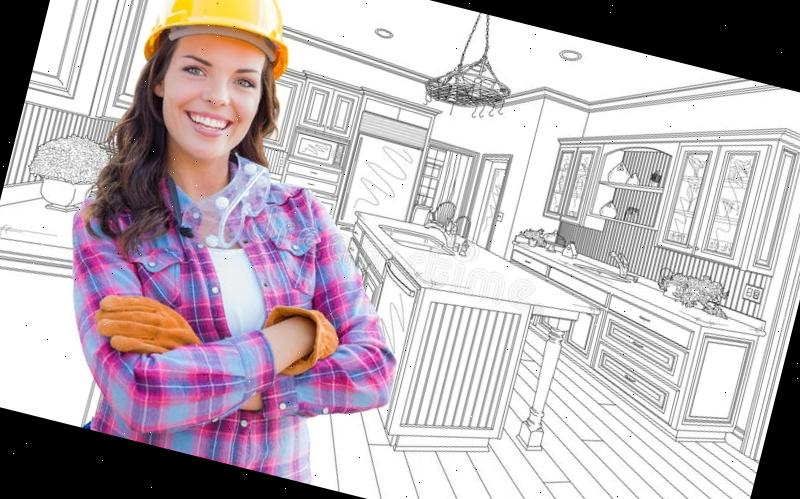helmet: (138, 0, 309, 88)
no_wear: (27, 142, 379, 484)
